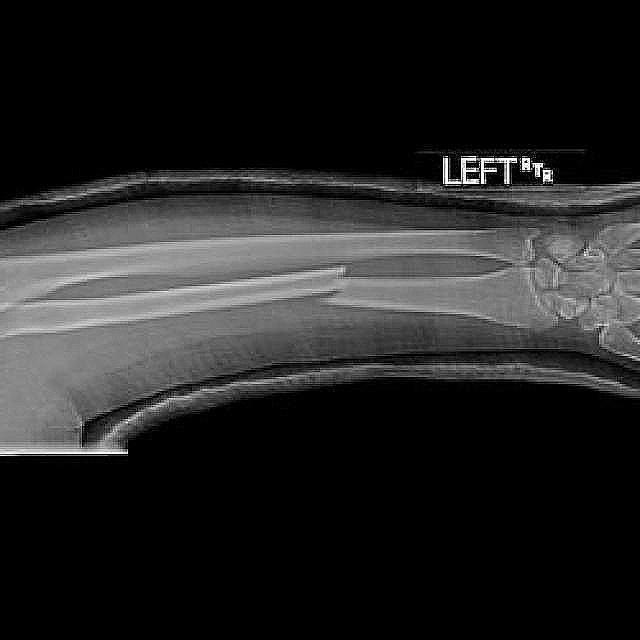bone: (301, 263, 371, 322)
